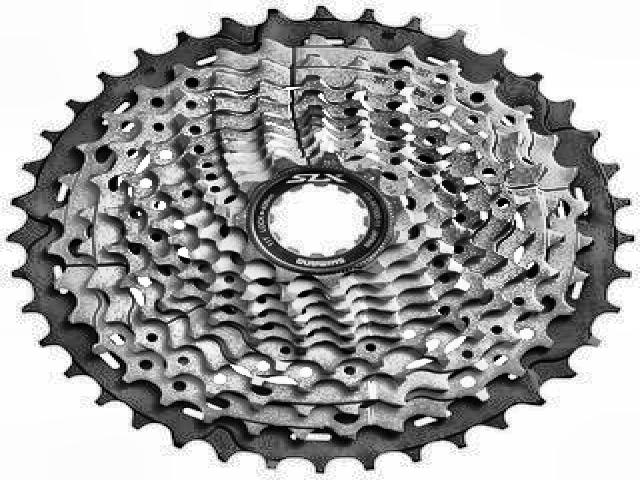cassette: (8, 6, 634, 472)
